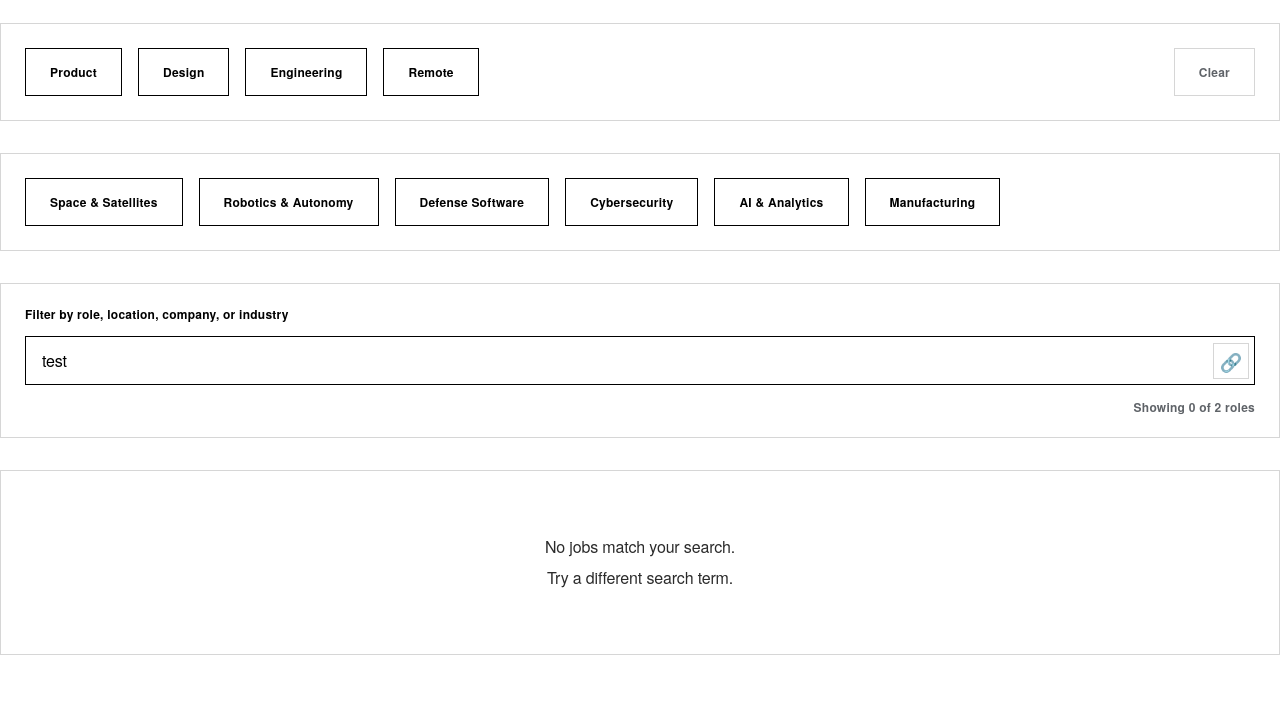
Test case: JobsList › URL parameters › shows success state after copying link
(page scrolled)
What coordinates should you click on to do the following:
click the button named "Copy shareable link"
I would click on:
 (1231, 361)
Its box is [1213, 343, 1249, 379].
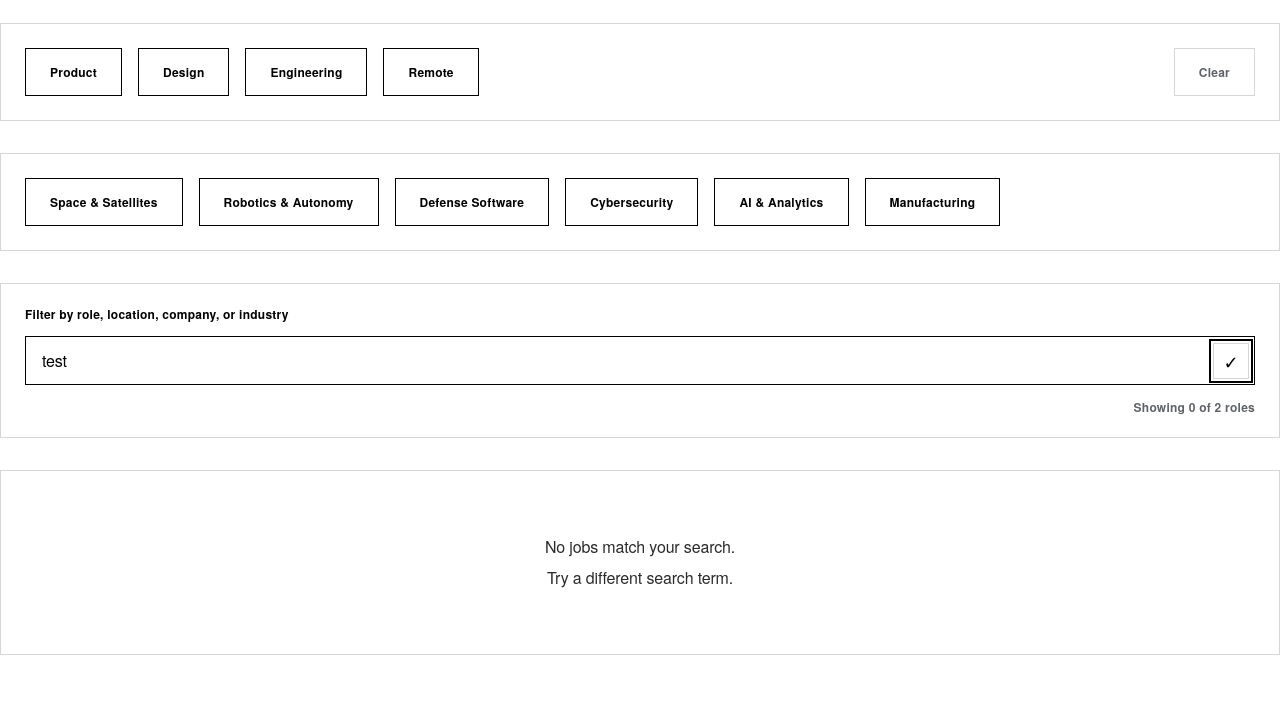
Expected: the button named "Copy shareable link" reads "✓", [1213, 343, 1249, 379]
